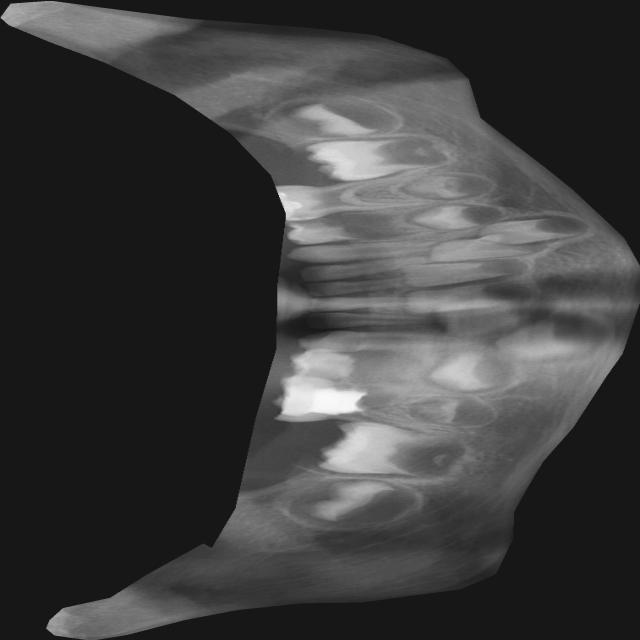mandibula: (0, 0, 640, 640)
